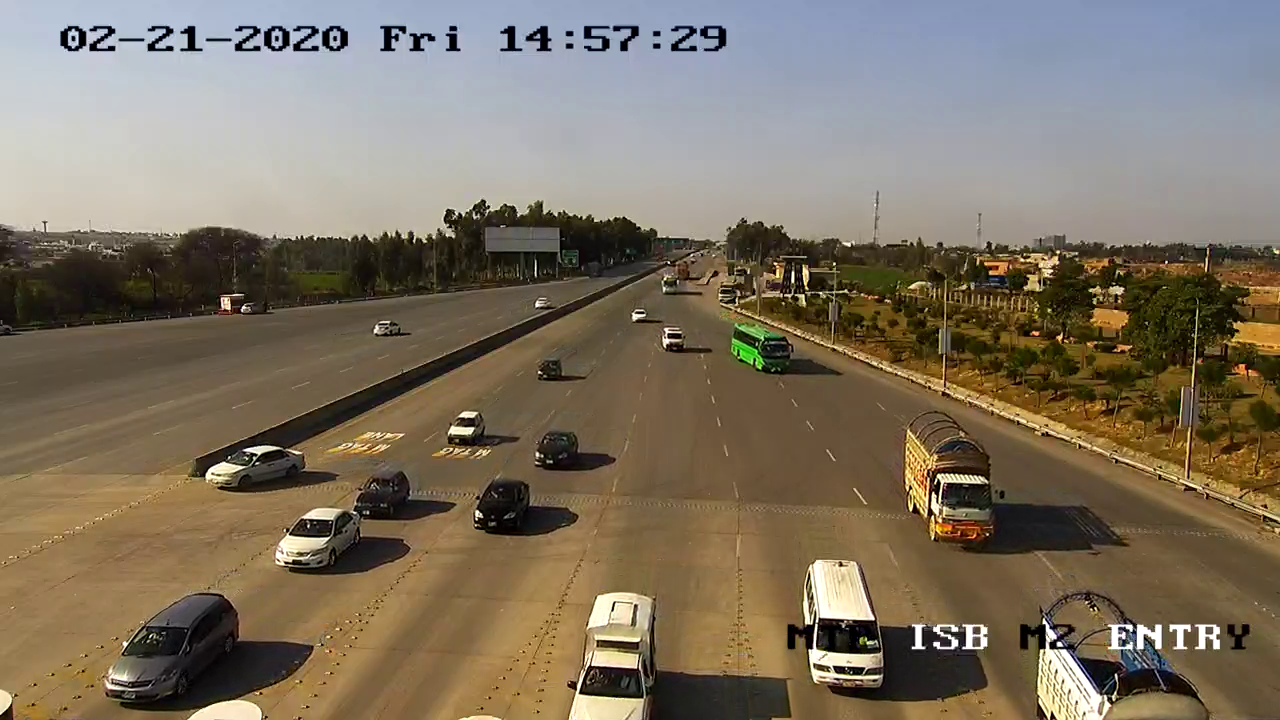f1: (86, 586, 251, 714), (554, 581, 674, 720), (252, 501, 379, 577), (464, 473, 539, 541), (523, 423, 589, 477)
f2: (786, 546, 900, 701)
f4: (720, 314, 809, 384)
f5: (885, 403, 1009, 554)
